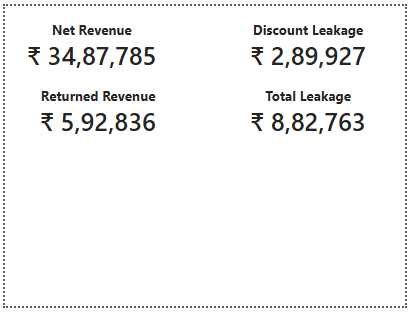

The dashboard page shown, as its layout file describes it:
{"tool":"powerbi","page":{"name":"ToolTip - Revenue Leakage Breakdown","canvas":[320,240],"ordinal":7},"visuals":[{"type":"card","title":"Net Revenue","fields":{"Values":["_Sales Measures.Net Revenue"]},"box":[11,12,117,45],"z":0},{"type":"card","title":"Returned Revenue","fields":{"Values":["_Sales Measures.Returned Revenue"]},"box":[8,65,133,45],"z":1000},{"type":"card","title":"Total Leakage","fields":{"Values":["_Sales Measures.Total Leakage"]},"box":[176,65,133,45],"z":2000},{"type":"card","title":"Discount Leakage ","fields":{"Values":["_Sales Measures.Discount Leakage"]},"box":[176,12,133,45],"z":3000}]}

Visuals, with their boxes in screenshot pixels (x1, y1, x2, y2), scaled from the page's 320x240 canvas onto the 411x313 screenshot:
"Net Revenue" card: crop(14, 16, 164, 74)
"Returned Revenue" card: crop(10, 85, 181, 143)
"Total Leakage" card: crop(226, 85, 397, 143)
"Discount Leakage " card: crop(226, 16, 397, 74)
